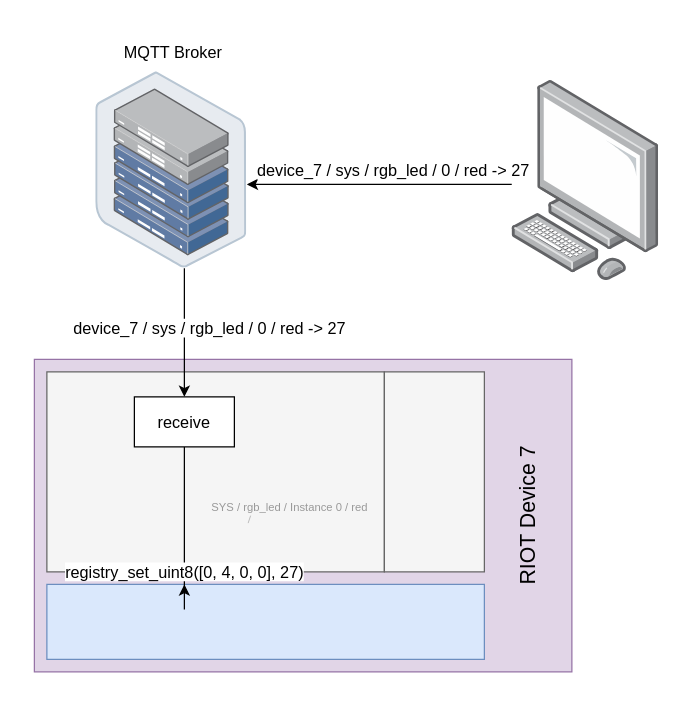
Image size: 693x705. Some labels were removed from this diagram. The box of each missing label's shape, as (x1, y1, x2, y2) in pixels:
MQTT Client: (383, 371, 484, 572)
RIOT Registry: (46, 583, 484, 659)
